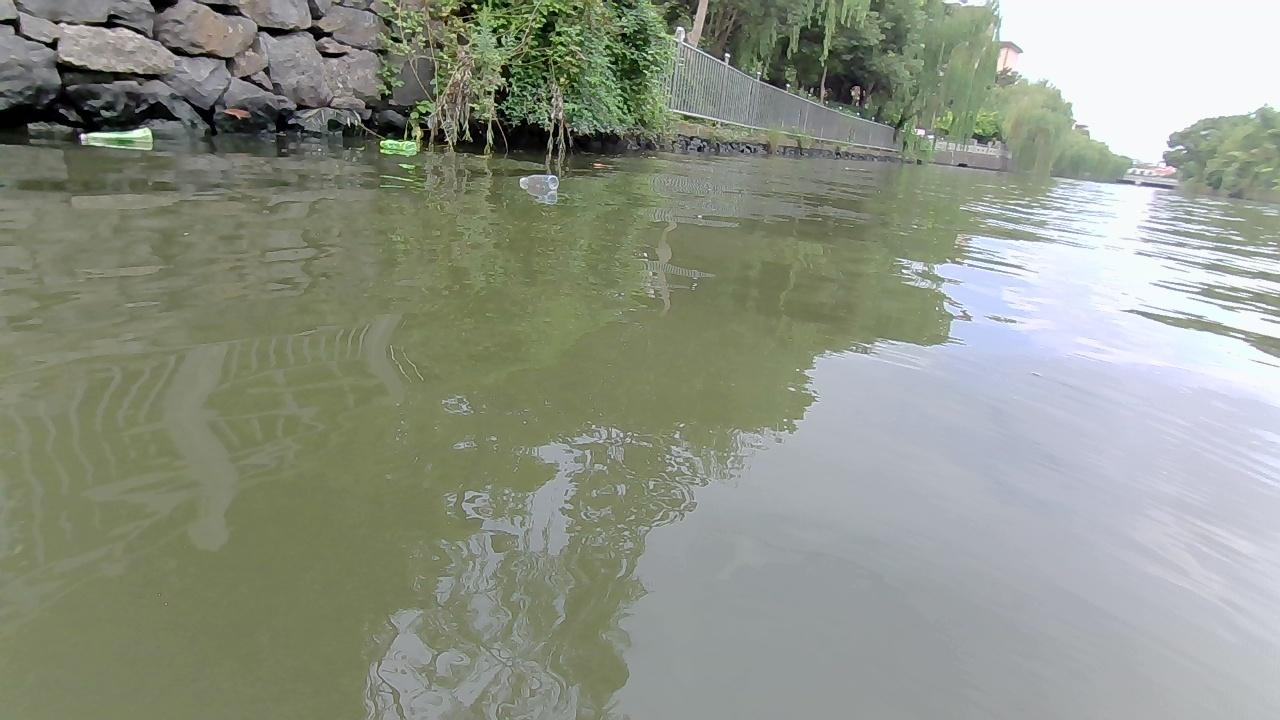bottle: (79, 126, 153, 142), (517, 174, 559, 187), (379, 139, 416, 150)
